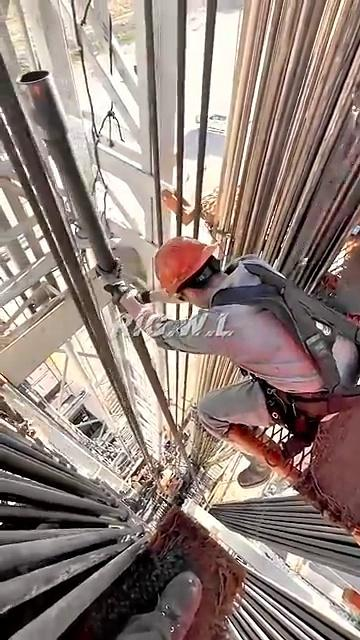gloves: (90, 243, 138, 303)
helmet: (123, 245, 215, 290)
shoes: (200, 450, 277, 538)
worker: (75, 215, 343, 542)
